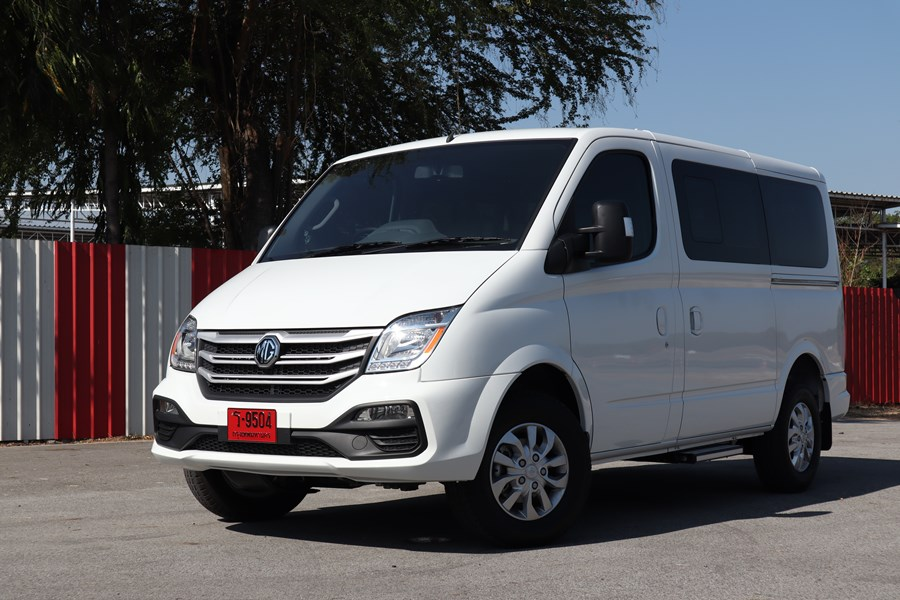van: (144, 124, 857, 543)
